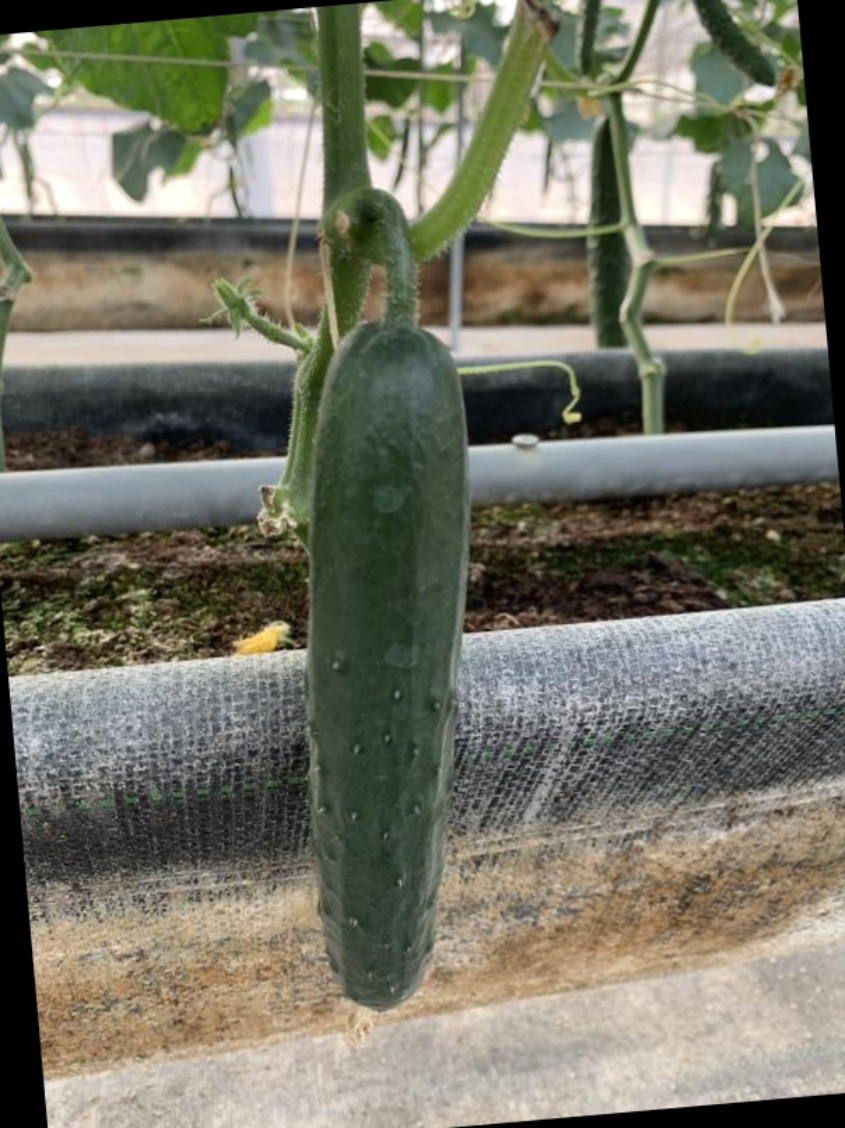mature: (283, 324, 488, 1029)
